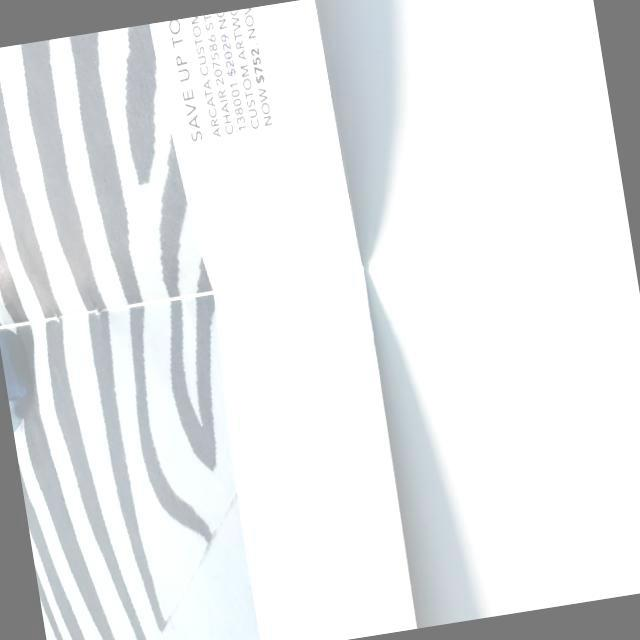paper: (135, 0, 454, 640)
